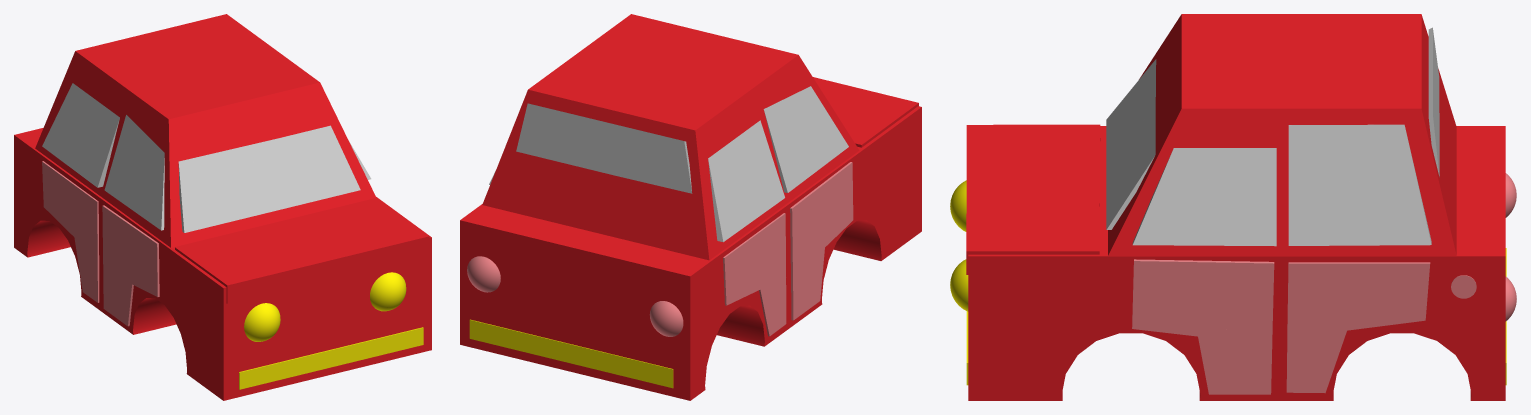
The model's file is bodykansei.FBX.
3 views of the same model, side by side, from view 1: azimuth 30°, elevation 25°; view 2: azimuth 150°, elevation 25°; view 3: azimuth 270°, elevation 25° (orthographic). The views are drawn at different scales.
Visible parts, largest first — view 1: Box019, Box001, Box003, Box002, Box008, Box006, Box011, Box004, Box015, Box013, Sphere002, Sphere001 (+1 smaller); view 2: Box001, Box019, Box009, Box008, Box006, Box011, Box018, Box015, Box003, Box013, Box017, Sphere004 (+1 smaller); view 3: Box019, Box001, Box003, Box007, Box005, Box010, Box014, Box002, Box012, Box016, Box009, Sphere002 (+2 smaller).
Part boxes in pixels (box(x1,y1,x2,y2)): Box019: box(35, 14, 376, 247); Box001: box(14, 128, 431, 400); Box003: box(175, 198, 429, 303); Box002: box(178, 125, 360, 232); Box008: box(42, 83, 119, 187); Box006: box(104, 115, 164, 230); Box011: box(102, 205, 159, 296); Box004: box(239, 327, 423, 389); Box015: box(42, 161, 99, 260); Box013: box(103, 263, 133, 326); Sphere002: box(370, 272, 406, 311); Sphere001: box(244, 303, 280, 341); Box001: box(460, 106, 921, 400); Box019: box(482, 14, 859, 260); Box009: box(516, 103, 692, 193); Box008: box(708, 120, 784, 242); Box006: box(763, 86, 848, 192); Box011: box(790, 162, 853, 277); Box018: box(469, 319, 673, 388); Box015: box(723, 213, 785, 305); Box003: box(813, 77, 918, 147); Box013: box(790, 248, 824, 320); Box017: box(759, 277, 786, 336); Sphere004: box(467, 256, 500, 292); Box019: box(1108, 14, 1456, 255); Box001: box(968, 126, 1505, 400); Box003: box(966, 124, 1100, 274); Box007: box(1288, 124, 1431, 245); Box005: box(1132, 148, 1276, 246); Box010: box(1132, 259, 1274, 336); Box014: box(1287, 262, 1430, 330); Box002: box(1106, 59, 1156, 229); Box012: box(1197, 327, 1272, 394); Box016: box(1286, 319, 1350, 393); Box009: box(1428, 27, 1439, 176); Sphere002: box(950, 259, 968, 311).
Size of the model in its own units: 197 by 353 by 188.
4 materials, 4 textured.
